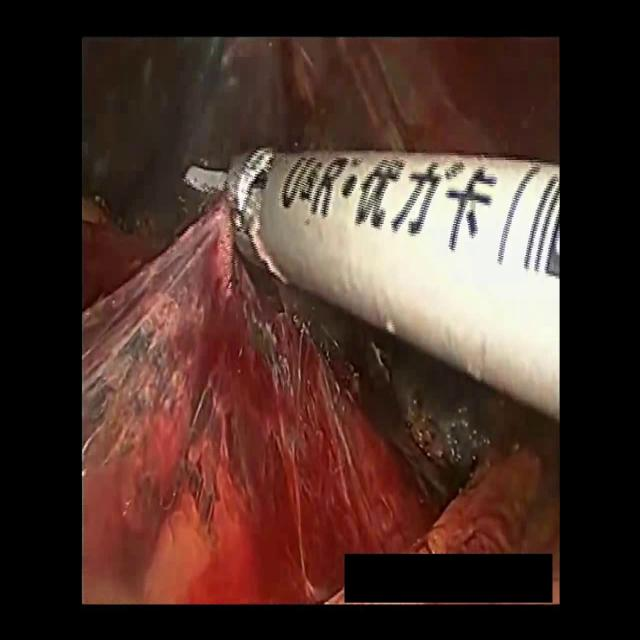surgical-area: (81, 38, 560, 604)
surgical-tool: (183, 145, 562, 427)
